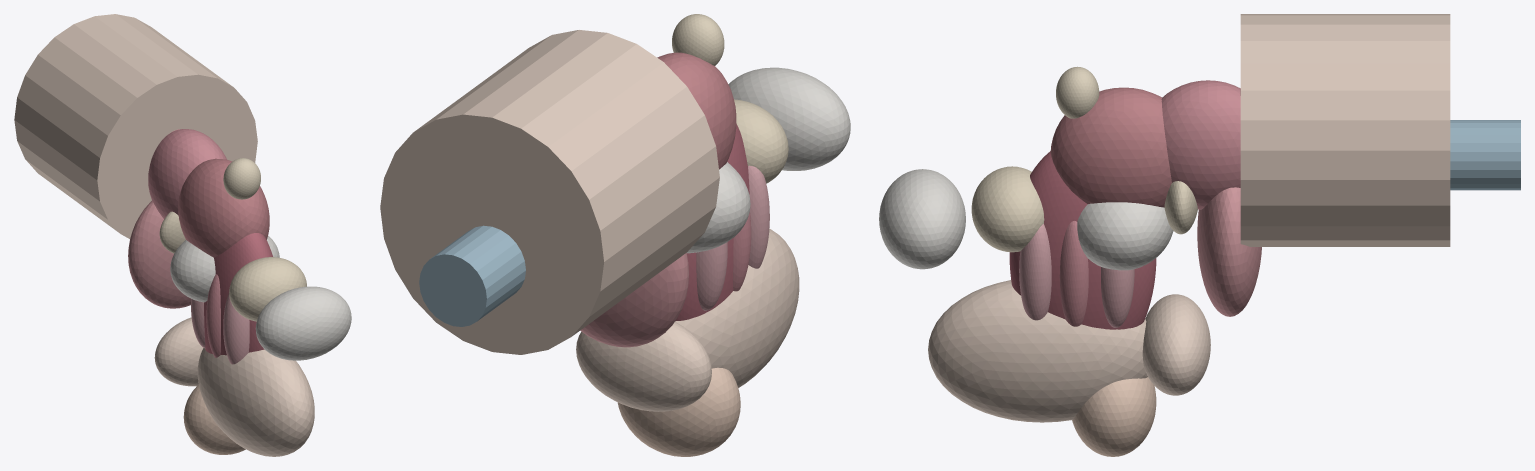
Rendered from hidung.glb.
3 views of the same model, side by side, from view 1: azimuth 30°, elevation 25°; view 2: azimuth 150°, elevation 25°; view 3: azimuth 270°, elevation 25° (orthographic). The views are drawn at different scales.
Parts seen in each view (by area): view 1: Neck, Nose_Bridge, Nasopharynx, Frontal_Sinus, Tongue, Oropharynx, Ethmoid_Sinus, Nasal_Cavity, Upper_Lip_Region, Maxillary_Sinus, Nasal_Tip, Left_Superior_Turbinate (+4 smaller); view 2: Neck, Nose_Bridge, Upper_Lip_Region, Trachea, Frontal_Sinus, Nasal_Tip, Tongue, Nasopharynx, Ethmoid_Sinus, Maxillary_Sinus, Nasal_Cavity, Eustachian_Tube_Opening (+3 smaller); view 3: Neck, Nose_Bridge, Nasopharynx, Oropharynx, Frontal_Sinus, Nasal_Cavity, Tongue, Upper_Lip_Region, Maxillary_Sinus, Trachea, Nasal_Tip, Ethmoid_Sinus (+5 smaller).
Boxes of the visible parts, bbox=[...] form: Neck: bbox=[14, 14, 257, 238]; Nose_Bridge: bbox=[197, 348, 314, 456]; Nasopharynx: bbox=[178, 158, 269, 257]; Frontal_Sinus: bbox=[255, 286, 351, 360]; Tongue: bbox=[128, 201, 190, 308]; Oropharynx: bbox=[148, 129, 226, 218]; Ethmoid_Sinus: bbox=[229, 257, 306, 321]; Nasal_Cavity: bbox=[204, 233, 272, 355]; Upper_Lip_Region: bbox=[154, 317, 203, 386]; Maxillary_Sinus: bbox=[170, 235, 279, 302]; Nasal_Tip: bbox=[183, 385, 245, 454]; Left_Superior_Turbinate: bbox=[223, 293, 249, 364]; Neck: bbox=[380, 30, 719, 354]; Nose_Bridge: bbox=[675, 228, 799, 387]; Upper_Lip_Region: bbox=[576, 322, 711, 411]; Trachea: bbox=[419, 225, 525, 326]; Frontal_Sinus: bbox=[728, 67, 850, 170]; Nasal_Tip: bbox=[617, 367, 740, 456]; Tongue: bbox=[580, 253, 688, 347]; Nasopharynx: bbox=[657, 52, 736, 169]; Ethmoid_Sinus: bbox=[734, 99, 788, 183]; Maxillary_Sinus: bbox=[687, 162, 750, 253]; Nasal_Cavity: bbox=[675, 123, 749, 321]; Eustachian_Tube_Opening: bbox=[672, 14, 724, 65]; Neck: bbox=[1240, 14, 1450, 246]; Nose_Bridge: bbox=[928, 280, 1147, 422]; Nasopharynx: bbox=[1050, 87, 1171, 207]; Oropharynx: bbox=[1161, 80, 1240, 209]; Frontal_Sinus: bbox=[879, 169, 965, 269]; Nasal_Cavity: bbox=[1009, 151, 1156, 329]; Tongue: bbox=[1197, 187, 1261, 316]; Upper_Lip_Region: bbox=[1142, 294, 1210, 395]; Maxillary_Sinus: bbox=[1077, 202, 1173, 270]; Trachea: bbox=[1450, 120, 1520, 190]; Nasal_Tip: bbox=[1072, 377, 1156, 456]; Ethmoid_Sinus: bbox=[971, 166, 1044, 252].
Bounding box in the file's own units: 0.86 × 1.73 × 2.36.
